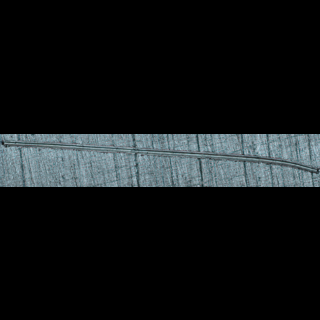d: (0, 138, 319, 176)
